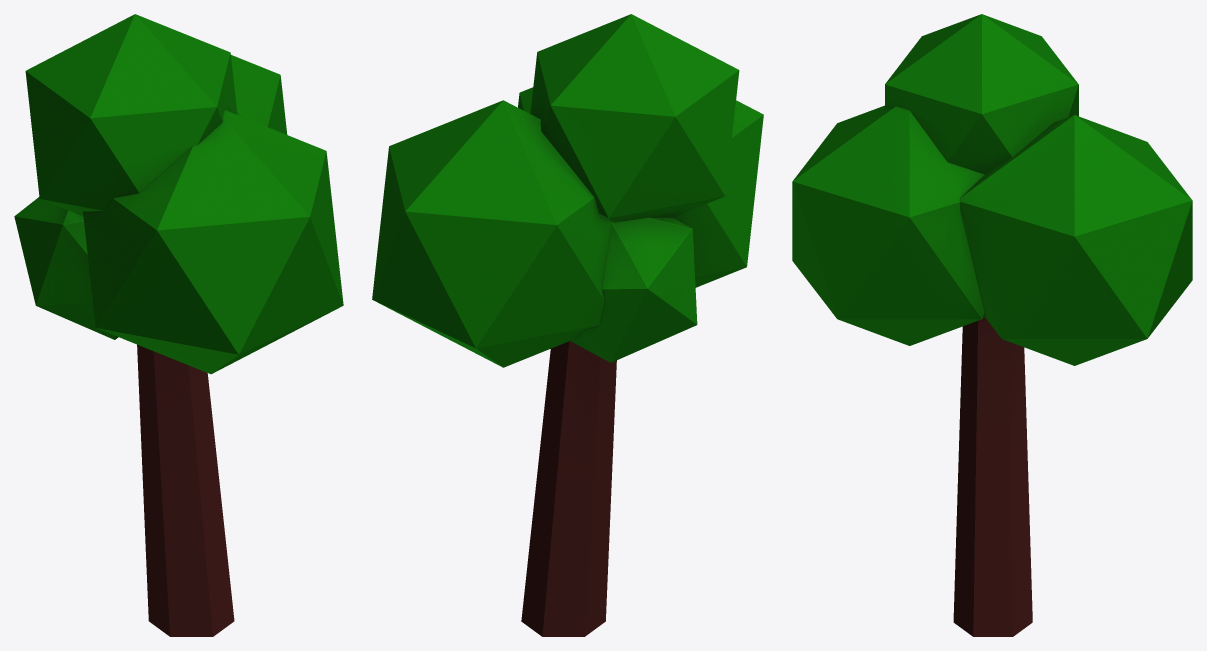
File: tree1.fbx
The picture shows the model from 3 angles, left to right: view 1: azimuth 30°, elevation 25°; view 2: azimuth 150°, elevation 25°; view 3: azimuth 270°, elevation 25°; orthographic projection. The views are drawn at different scales.
Parts seen in each view (by area): view 1: tree; view 2: tree; view 3: tree.
Boxes of the visible parts, x1,y1,x2,y2 form: tree: (14,14,343,636); tree: (372,14,763,636); tree: (792,14,1192,636).
Size of the model in its own units: 218 by 449 by 281.
